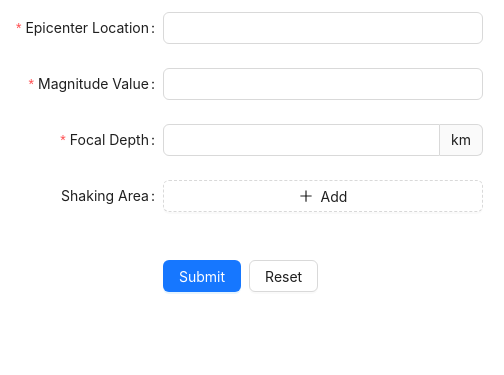
Scenario: SimulationForm component › should be able to add and remove shaking area fields
Click the button "Add".
click(323, 196)  # box [163,180,483,212]
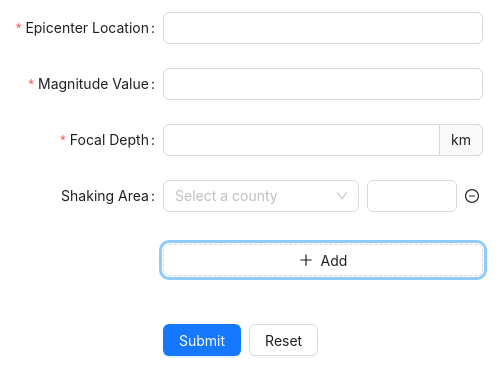
Expected: the text "Select a county" is shown, [175,187,278,204]
Click the picture with test id "remove-icon-0".
click(472, 196)  # box [465,189,479,203]
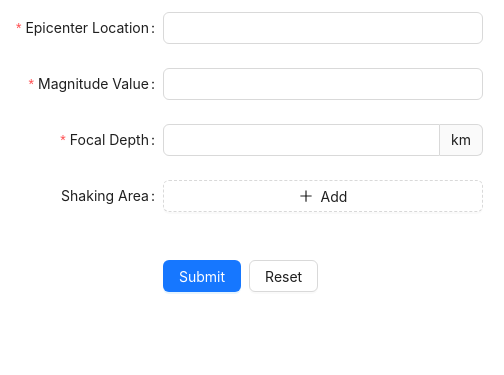
Expected: the text "Select a county" is gone
